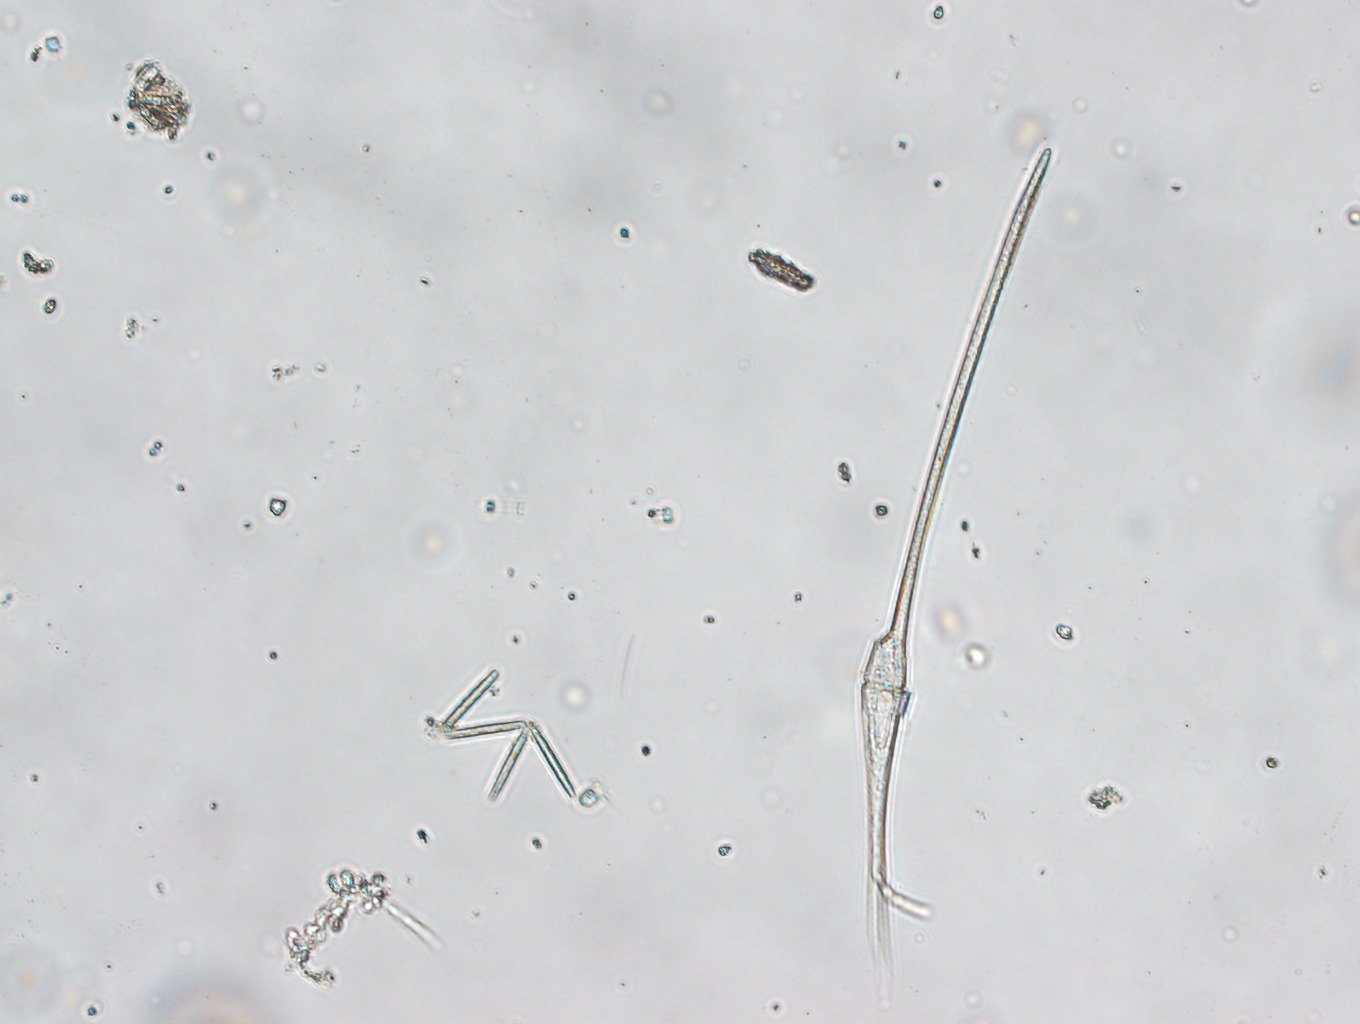ceratium fusus: (849, 139, 1063, 984)
thalassionema nitzschioides: (438, 654, 584, 809)
